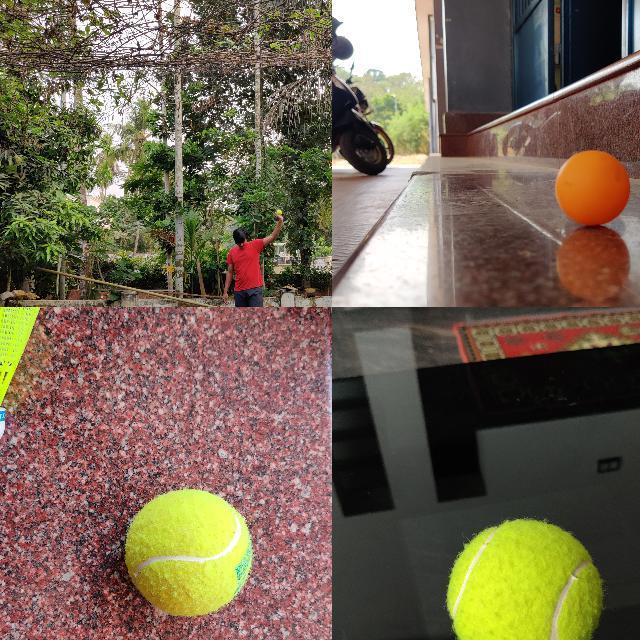tennis-ball: (444, 516, 604, 639), (125, 490, 251, 615), (277, 210, 282, 215)
